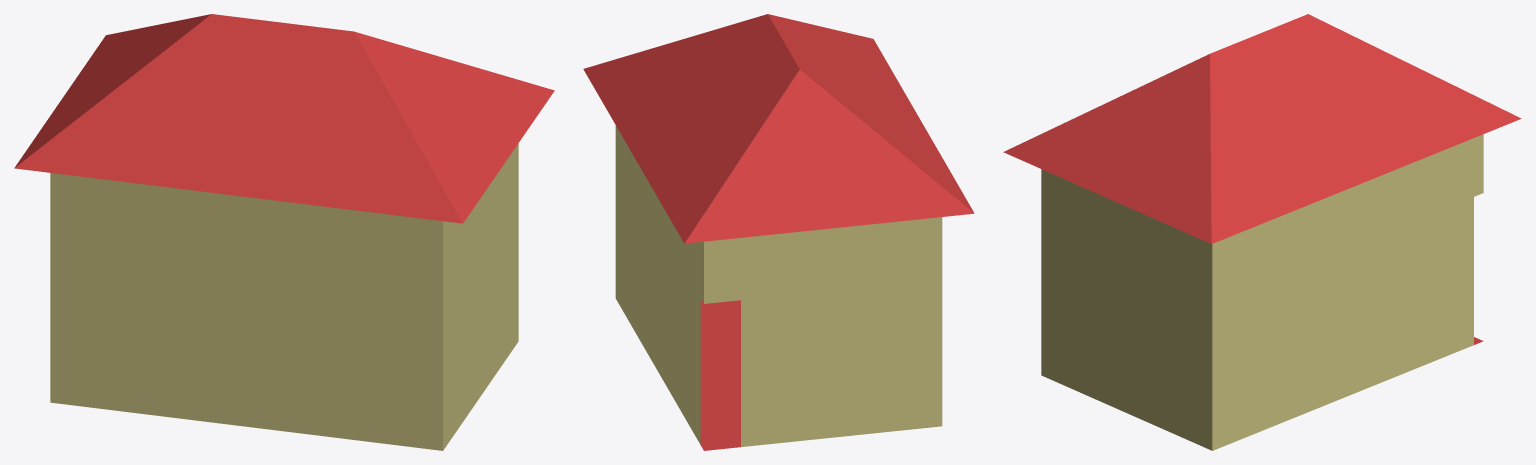
The picture shows the model from 3 angles, left to right: view 1: azimuth 30°, elevation 25°; view 2: azimuth 150°, elevation 25°; view 3: azimuth 270°, elevation 25°; orthographic projection. The views are drawn at different scales.
Visible parts, largest first — view 1: group_5, group_3, group_4; view 2: group_5, group_3, group_4, group_6; view 3: group_5, group_3, group_4.
Part boxes in pixels (x1=…): group_5: x1=50, y1=143, x2=518, y2=450; group_3: x1=14, y1=14, x2=554, y2=223; group_4: x1=16, y1=31, x2=495, y2=223; group_5: x1=615, y1=125, x2=942, y2=446; group_3: x1=615, y1=14, x2=974, y2=243; group_4: x1=583, y1=34, x2=971, y2=243; group_6: x1=700, y1=299, x2=740, y2=450; group_5: x1=1041, y1=134, x2=1483, y2=450; group_3: x1=1004, y1=14, x2=1515, y2=243; group_4: x1=1003, y1=101, x2=1521, y2=243.
Bounding box in the file's own units: 19.11 × 19.26 × 13.23.
